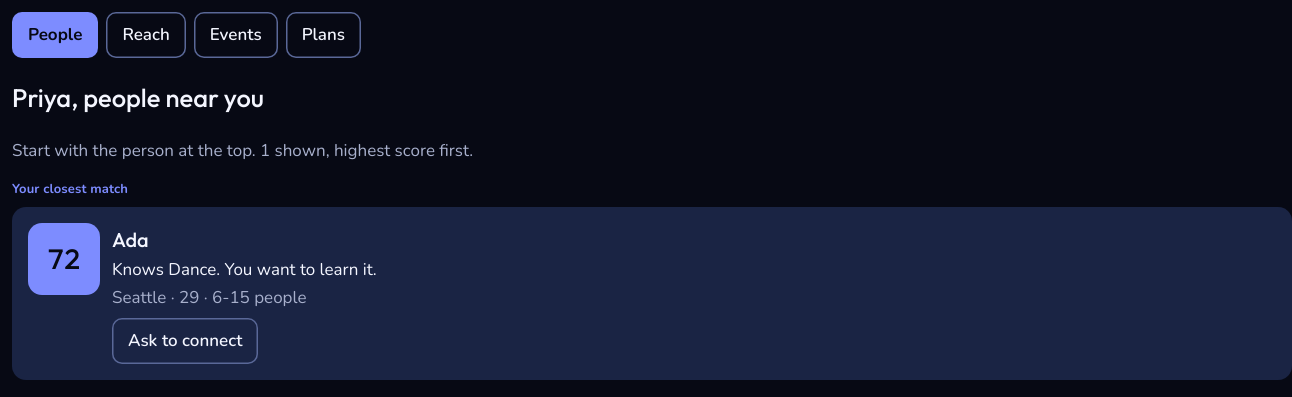
it: opens the saved profile and lists people from the match API
Expected: the heading "Ada" is shown, [112, 227, 149, 252]
Expected: the heading "Priya, people near you" is shown, [12, 81, 264, 114]
Click the button "Events" at (236, 35), box [194, 12, 278, 58]
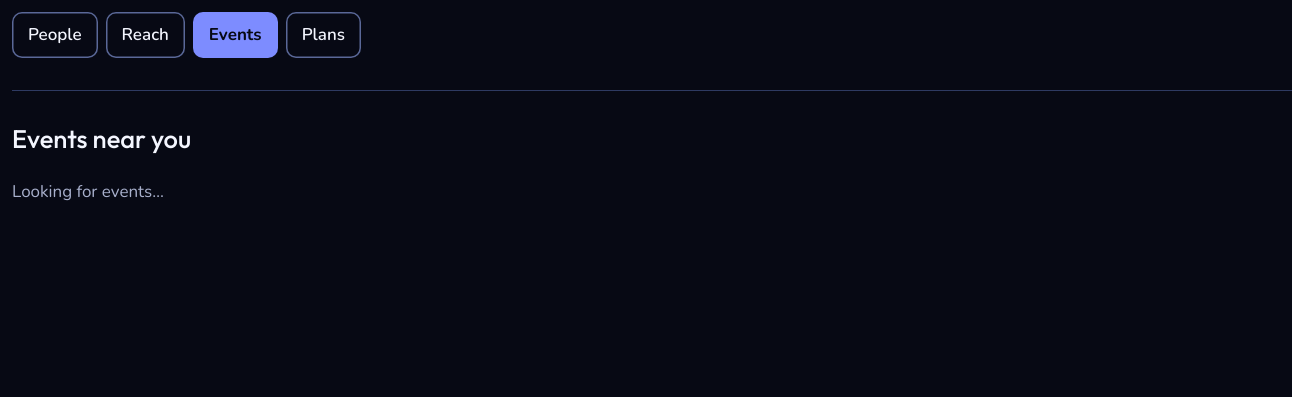
Expected: the heading "Events near you" is shown, [12, 122, 191, 155]
Expected: the heading "Priya, people near you" is gone
Click the button "Plans" at (323, 35), box [286, 12, 361, 58]
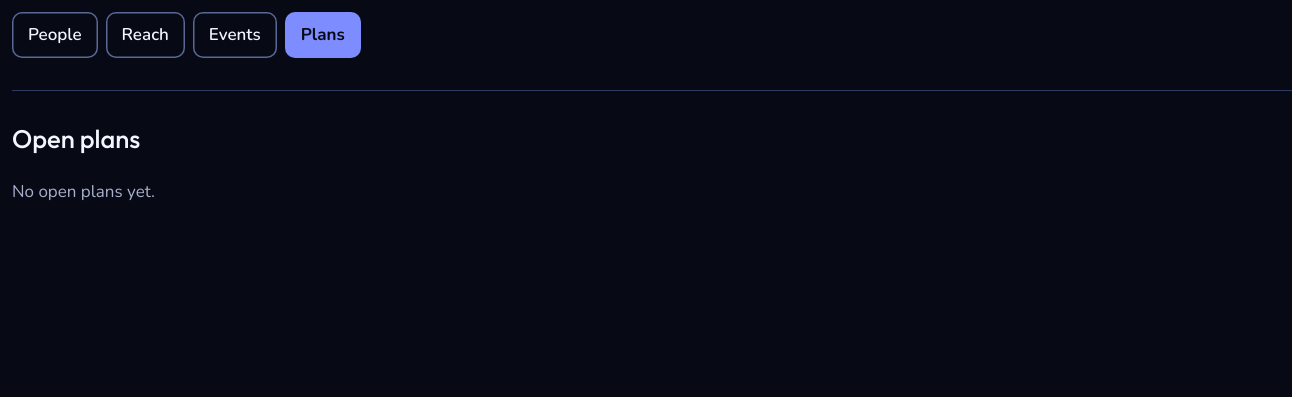
Expected: the heading "Open plans" is shown, [12, 122, 140, 155]
Expected: the heading "Events near you" is gone
Click the button "Reach" at (145, 35), box [106, 12, 185, 58]
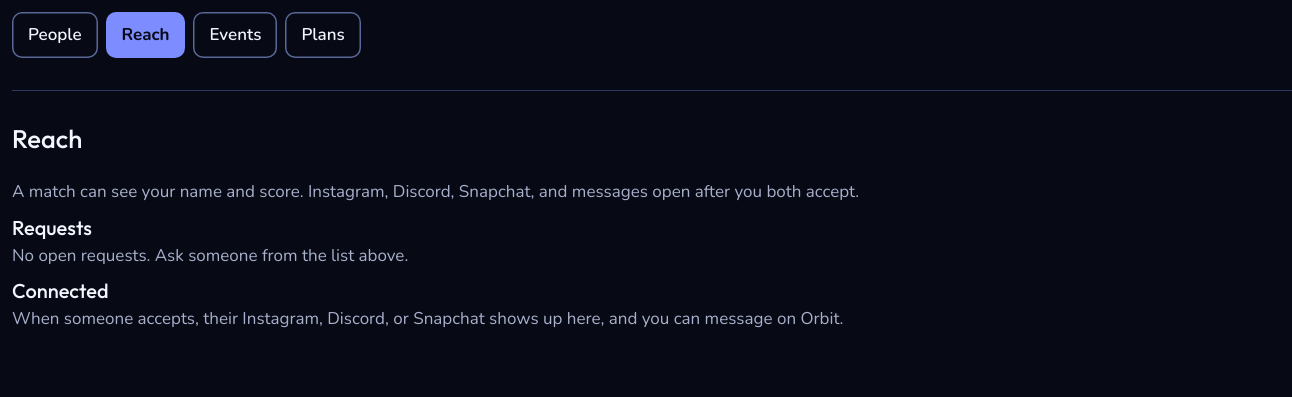
Expected: the heading "Reach" is shown, [12, 122, 82, 155]
Expected: the heading "Open plans" is gone
